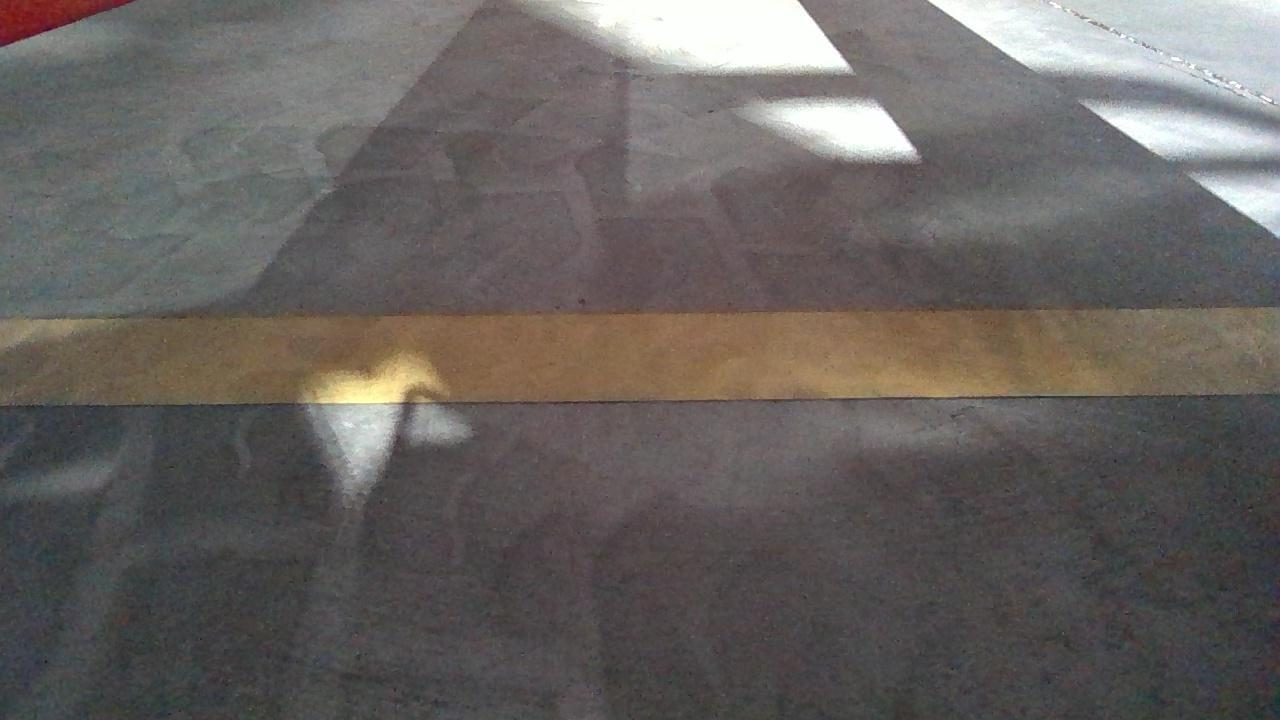yellow_line: (9, 308, 1280, 406)
